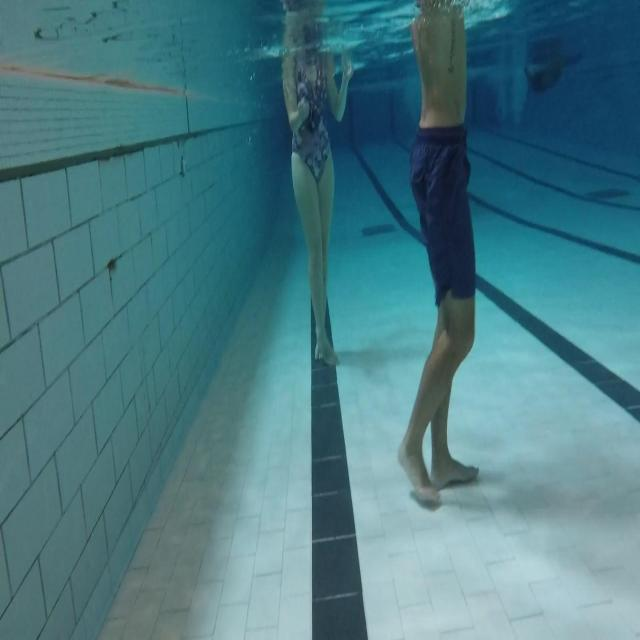human: (396, 0, 479, 508), (280, 1, 354, 367)
